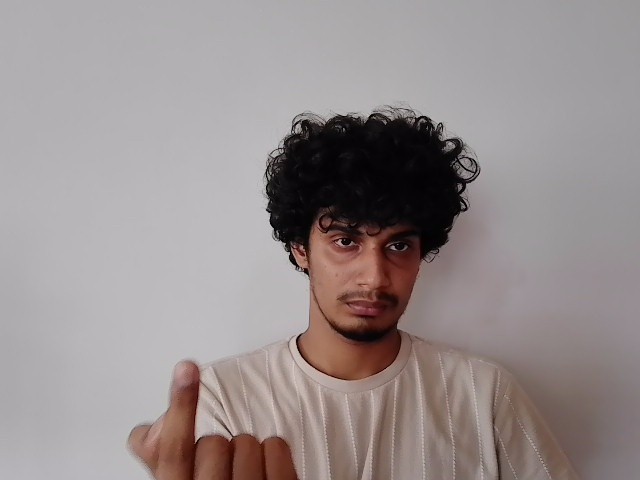just: (130, 362, 308, 480)
